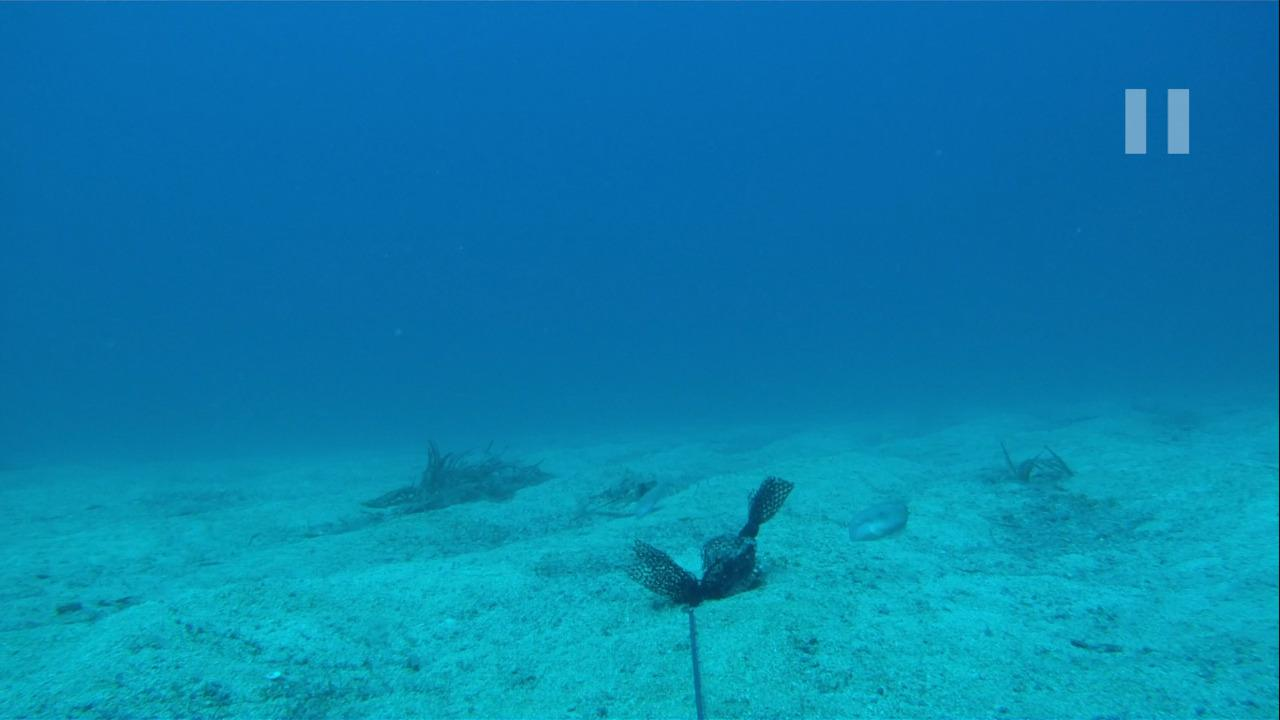dactylopterus: (560, 461, 658, 521)
raor: (840, 494, 909, 545)
